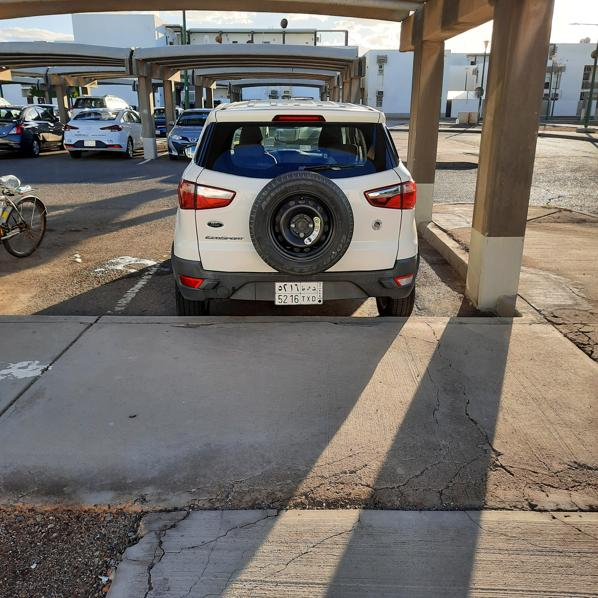numberplate: (275, 282, 323, 304)
